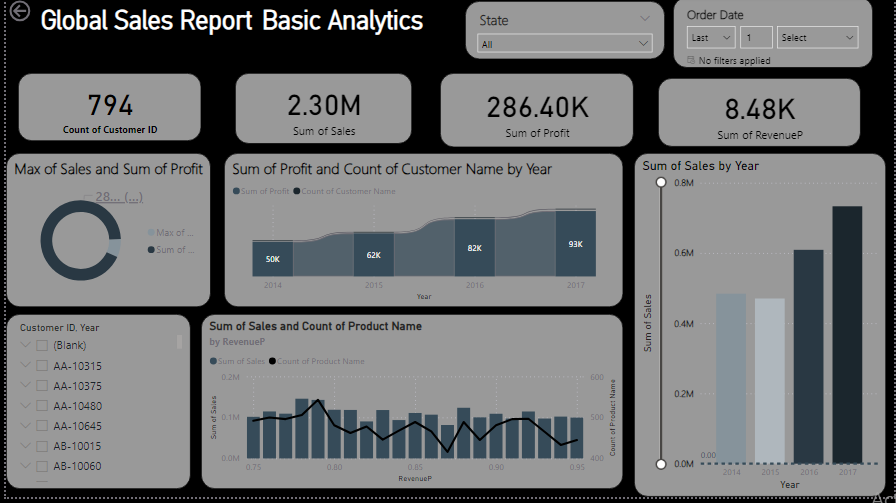

Layout of this report page (visuals, bound fields, positions):
{"tool":"powerbi","page":{"name":"Page 1","canvas":[1280,720],"ordinal":0},"visuals":[{"type":"clusteredColumnChart","fields":{"Category":["Orders.Order Date.Variation.Date Hierarchy.Year","Orders.Order Date.Variation.Date Hierarchy.Quarter","Orders.Order Date.Variation.Date Hierarchy.Month","Orders.Order Date.Variation.Date Hierarchy.Day"],"Y":["Sum(Orders.Sales)"]},"box":[904.3,224.6,362.9,495.4],"z":0},{"type":"textbox","box":[0,0,701.3,90.7],"z":1000},{"type":"actionButton","box":[0,0,100,40],"z":2000},{"type":"ribbonChart","fields":{"Category":["Orders.Order Date.Variation.Date Hierarchy.Year","Orders.Order Date.Variation.Date Hierarchy.Quarter","Orders.Order Date.Variation.Date Hierarchy.Month","Orders.Order Date.Variation.Date Hierarchy.Day"],"Y":["Sum(Orders.Profit)","CountNonNull(Orders.Customer Name)"]},"box":[313.9,224.6,574.6,221.8],"z":3000},{"type":"card","fields":{"Values":["Count(Orders.Customer ID)"]},"box":[17.3,109.4,263.5,97.9],"z":4000},{"type":"funnel","fields":{"Category":["Orders.Category"],"Y":["Sum(Orders.Profit)"]},"box":[15.8,446.4,263.5,256.3],"z":5000},{"type":"donutChart","fields":{"Y":["Orders.Max of Sales ","Sum(Orders.Profit)"]},"box":[17.3,216,276.5,221.8],"z":6000},{"type":"card","fields":{"Values":["Sum(Orders.RevenueP)"]},"box":[938.9,116.6,292.3,99.4],"z":7000},{"type":"card","fields":{"Values":["Sum(Orders.Profit)"]},"box":[625,109.4,279.4,106.6],"z":8000},{"type":"card","fields":{"Values":["Sum(Orders.Sales)"]},"box":[329.8,109.4,254.9,102.2],"z":9000},{"type":"lineClusteredColumnComboChart","fields":{"Category":["Orders.RevenueP"],"Y":["Sum(Orders.Sales)"],"Y2":["CountNonNull(Orders.Product Name)"]},"box":[280.8,456.5,607.7,252],"z":10000},{"type":"slicer","fields":{"Values":["Orders.State"]},"box":[661,5.8,288,83.5],"z":11000},{"type":"slicer","fields":{"Values":["Orders.Order Date"]},"box":[960.5,0,288,102.2],"z":12000}]}

Visuals, with their boxes in screenshot pixels (x1, y1, x2, y2), scaled from the page's 1280x720 canvas onto the 896x503 screenshot:
clusteredColumnChart - Orders.Order Date.Variation.Date Hierarchy.Year x Orders.Order Date.Variation.Date Hierarchy.Quarter: rect(633, 157, 887, 502)
textbox: rect(0, 0, 491, 63)
actionButton: rect(0, 0, 70, 28)
ribbonChart - Orders.Order Date.Variation.Date Hierarchy.Year x Orders.Order Date.Variation.Date Hierarchy.Quarter: rect(220, 157, 622, 312)
card - Count(Orders.Customer ID): rect(12, 76, 197, 145)
funnel - Orders.Category x Sum(Orders.Profit): rect(11, 312, 196, 491)
donutChart - Orders.Max of Sales  x Sum(Orders.Profit): rect(12, 151, 206, 306)
card - Sum(Orders.RevenueP): rect(657, 81, 862, 151)
card - Sum(Orders.Profit): rect(438, 76, 633, 151)
card - Sum(Orders.Sales): rect(231, 76, 409, 148)
lineClusteredColumnComboChart - Orders.RevenueP x Sum(Orders.Sales): rect(197, 319, 622, 495)
slicer - Orders.State: rect(463, 4, 664, 62)
slicer - Orders.Order Date: rect(672, 0, 874, 71)
